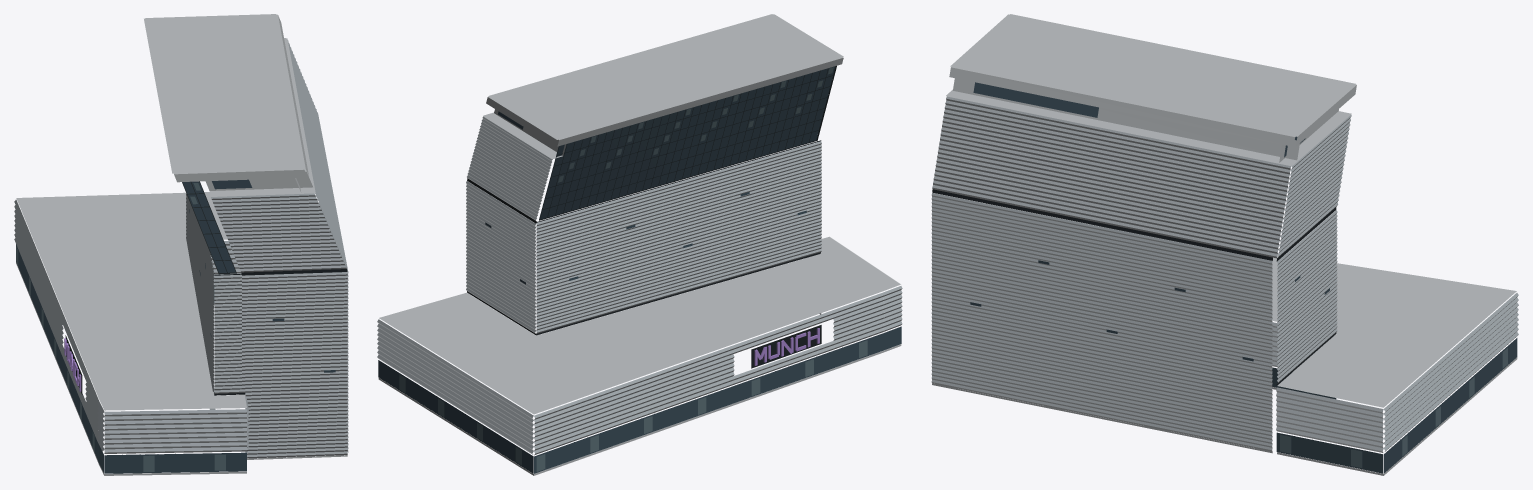
Rendered from munch-museum-near.glb.
3 views of the same model, side by side, from view 1: azimuth 30°, elevation 25°; view 2: azimuth 150°, elevation 25°; view 3: azimuth 270°, elevation 25° (orthographic). The views are drawn at different scales.
Parts seen in each view (by area): view 1: munch-museum-0-panel, munch-museum-0-glow, munch-museum-0-glass, munch-museum-0-light, munch-museum-0-gap, munch-museum-0-frame; view 2: munch-museum-0-panel, munch-museum-0-glow, munch-museum-0-glass, munch-museum-0-frame, munch-museum-0-gap, munch-museum-0-light, munch-museum-0-sign; view 3: munch-museum-0-panel, munch-museum-0-glow, munch-museum-0-glass, munch-museum-0-gap, munch-museum-0-light.
Part boxes in pixels (box(x1,y1,x2,y2)): munch-museum-0-panel: box(16, 14, 347, 475); munch-museum-0-glow: box(14, 40, 348, 457); munch-museum-0-glass: box(16, 179, 335, 473); munch-museum-0-light: box(16, 183, 225, 471); munch-museum-0-gap: box(65, 254, 347, 395); munch-museum-0-frame: box(122, 181, 236, 454); munch-museum-0-panel: box(377, 14, 902, 475); munch-museum-0-glow: box(377, 116, 902, 453); munch-museum-0-glass: box(378, 66, 901, 473); munch-museum-0-frame: box(539, 66, 842, 442); munch-museum-0-gap: box(467, 140, 821, 368); munch-museum-0-light: box(399, 67, 867, 471); munch-museum-0-sign: box(754, 328, 819, 365); munch-museum-0-panel: box(931, 14, 1518, 475); munch-museum-0-glow: box(931, 96, 1518, 451); munch-museum-0-glass: box(970, 82, 1517, 473); munch-museum-0-gap: box(932, 189, 1336, 385); munch-museum-0-light: box(1280, 348, 1507, 467).
Bounding box in the file's own units: 79.89 × 57.4 × 102.
